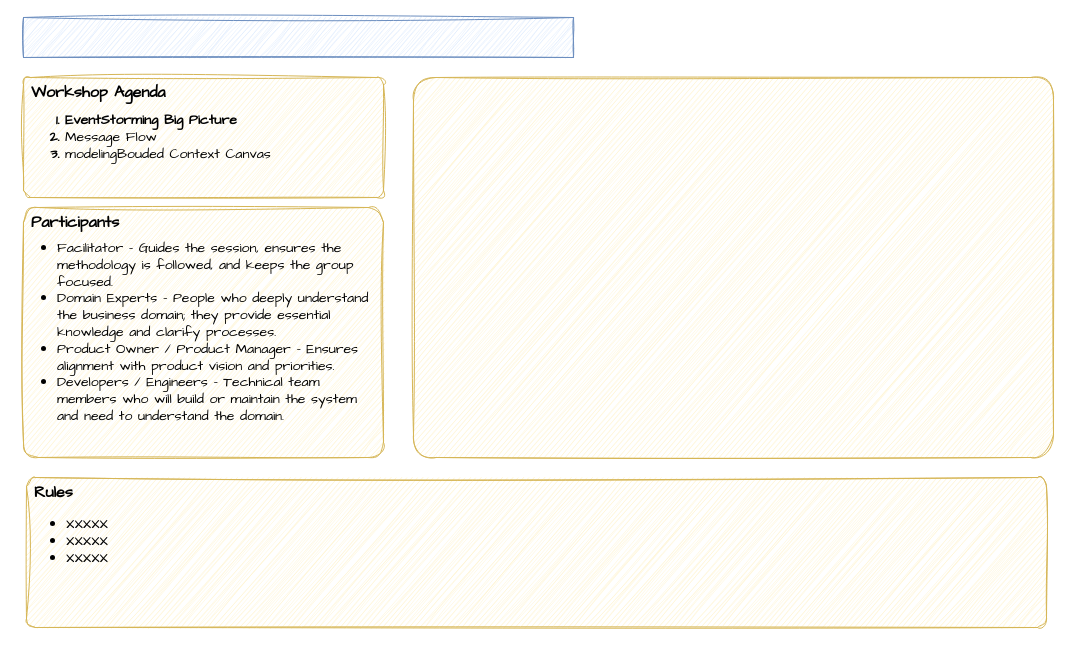
Image size: 1071x645. Some labels were removed from this diagram. Each missing label, with the centre of its shape:
"Outcomes" goes at point (733, 267).
"Splitting the monolithe / 01. EventStorming Big Picture" goes at point (298, 37).
